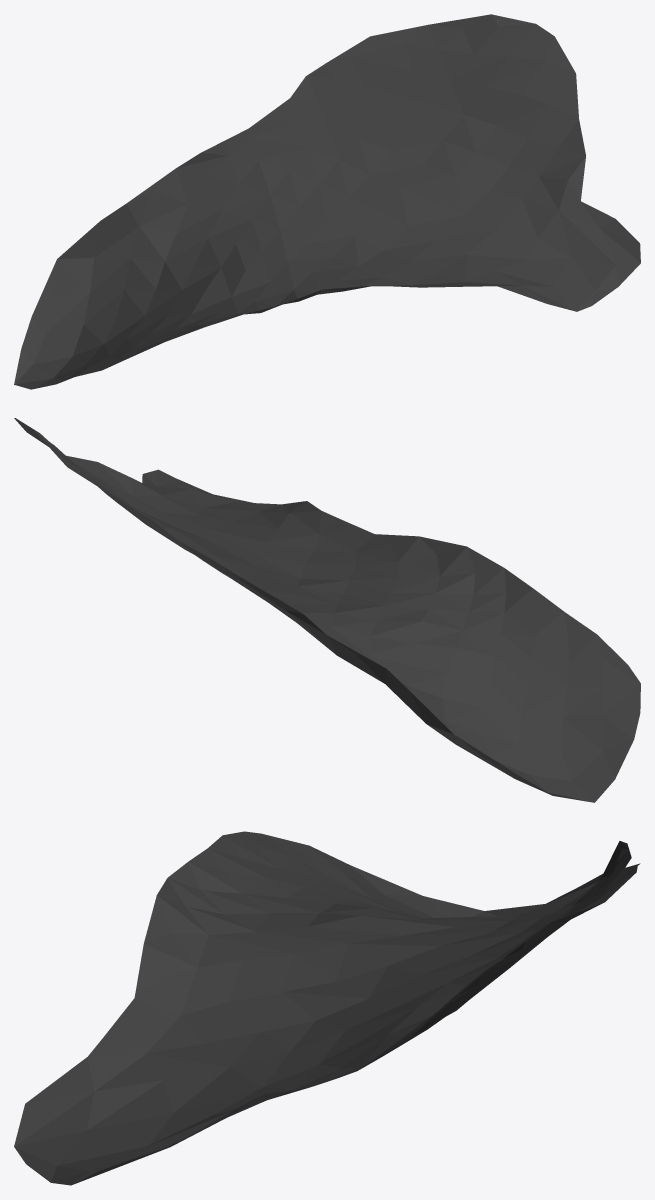
Rendered from ligament_craniomedial_meniscotibial_e.glb.
3 renders of one model, top to bottom at view 1: azimuth 30°, elevation 25°; view 2: azimuth 150°, elevation 25°; view 3: azimuth 270°, elevation 25°, orthographic. The views are drawn at different scales.
Parts seen in each view (by area): view 1: ligament_craniomedial_meniscotibial_e; view 2: ligament_craniomedial_meniscotibial_e; view 3: ligament_craniomedial_meniscotibial_e.
Part boxes in pixels (x1=…): ligament_craniomedial_meniscotibial_e: x1=14, y1=14, x2=640, y2=389; ligament_craniomedial_meniscotibial_e: x1=14, y1=418, x2=640, y2=802; ligament_craniomedial_meniscotibial_e: x1=14, y1=831, x2=640, y2=1185.
Bounding box in the file's own units: 0.00229 × 0.000948 × 0.00134.
Materials: 1 (1 with a texture image).
